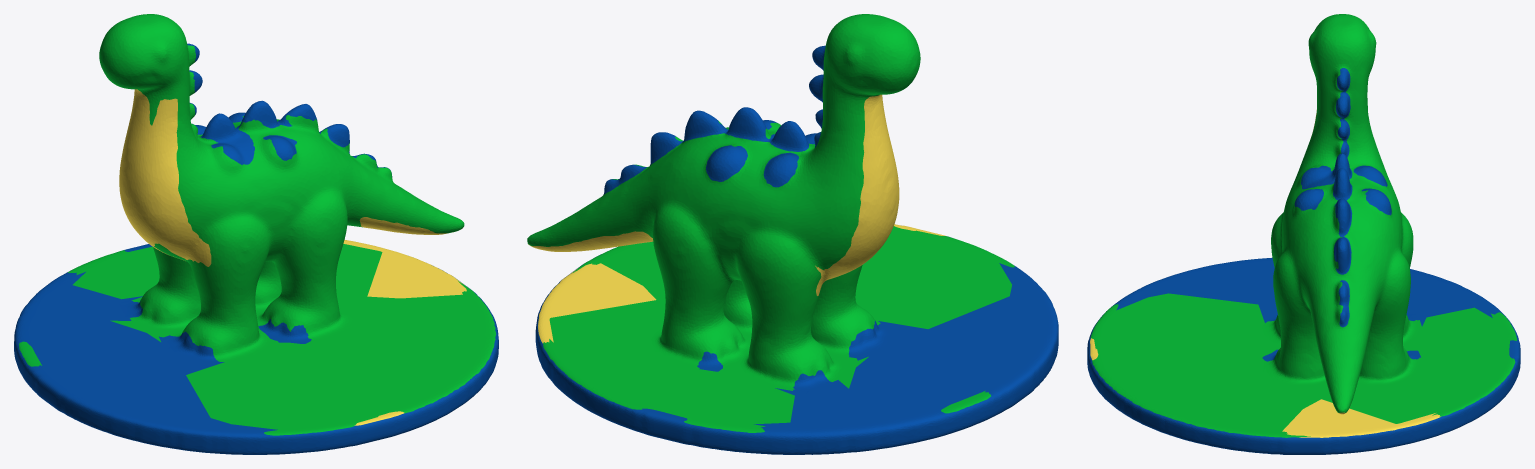
The model's file is khung_long.glb.
3 views of the same model, side by side, from view 1: azimuth 30°, elevation 25°; view 2: azimuth 150°, elevation 25°; view 3: azimuth 270°, elevation 25° (orthographic). The views are drawn at different scales.
Visible parts, largest first — view 1: part_1, part_2, part_3; view 2: part_1, part_2, part_3; view 3: part_1, part_2, part_3.
Boxes of the visible parts, x1,y1,x2,y2 form: part_1: (19,14,496,435); part_2: (14,43,498,454); part_3: (119,89,466,425); part_1: (527,14,1014,432); part_2: (535,45,1058,454); part_3: (528,94,946,343); part_1: (1090,14,1516,437); part_2: (1087,68,1520,454); part_3: (1090,110,1440,437).
Bounding box in the file's own units: 2.43 × 1.8 × 2.32.
